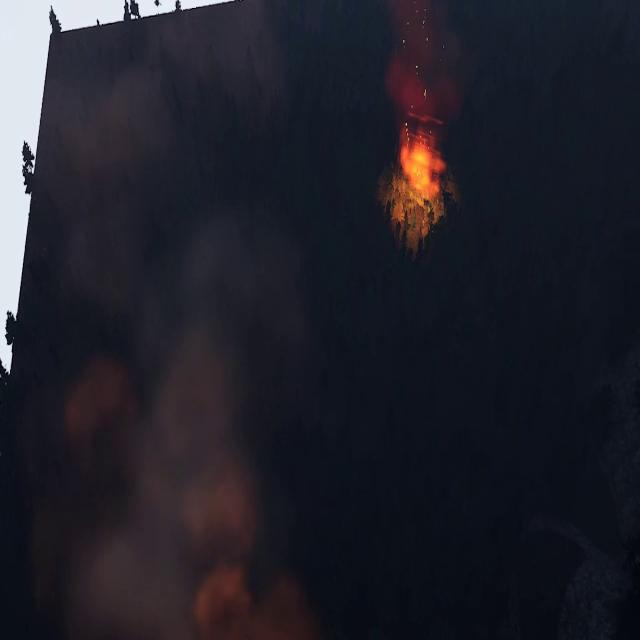fire: (397, 124, 447, 198)
smoke: (18, 201, 313, 640), (384, 2, 459, 118)
